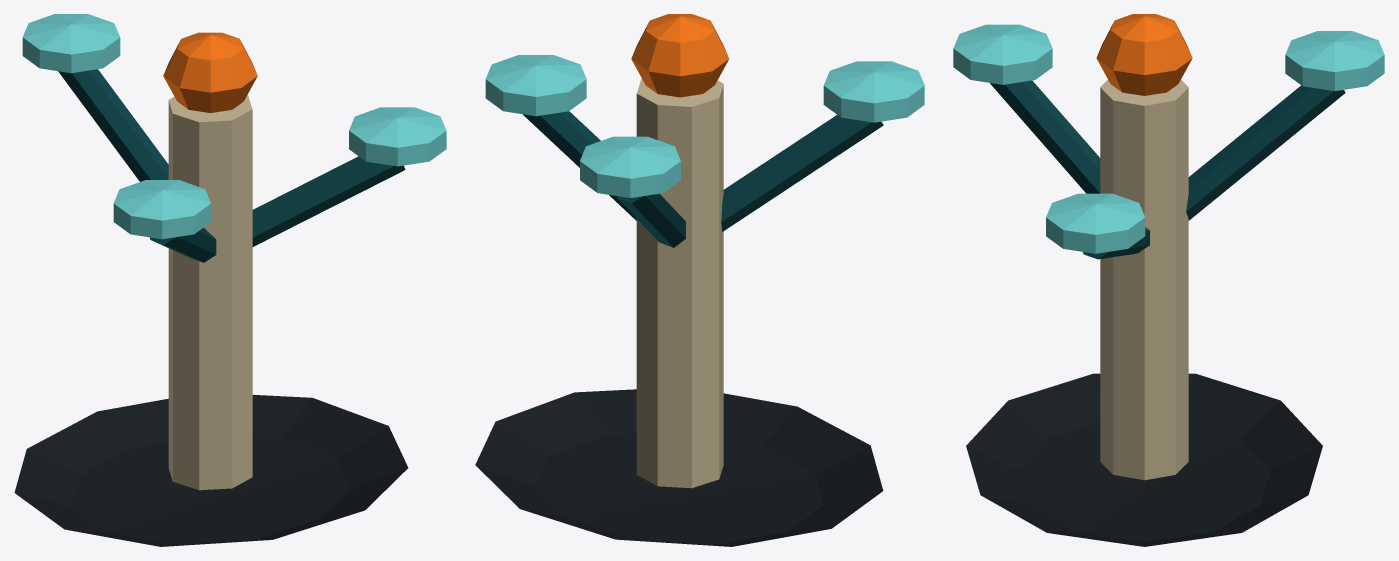
Rendered from civic_survey_organ_a.obj.
The picture shows the model from 3 angles, left to right: view 1: azimuth 30°, elevation 25°; view 2: azimuth 150°, elevation 25°; view 3: azimuth 270°, elevation 25°; orthographic projection. The views are drawn at different scales.
Visible parts, largest first — view 1: foot, sensor_stem, survey_eye, sensor_branch_0, sensor_cup_2, sensor_cup_1, sensor_cup_0, sensor_branch_2, sensor_branch_1; view 2: foot, sensor_stem, survey_eye, sensor_branch_1, sensor_cup_1, sensor_cup_2, sensor_cup_0, sensor_branch_2, sensor_branch_0; view 3: foot, sensor_stem, sensor_branch_2, survey_eye, sensor_cup_1, sensor_cup_0, sensor_cup_2, sensor_branch_1, sensor_branch_0.
Boxes of the visible parts, left/top/right/bottom form: foot: left=14, top=395, right=408, bottom=546; sensor_stem: left=168, top=95, right=252, bottom=490; survey_eye: left=163, top=32, right=257, bottom=112; sensor_branch_0: left=252, top=156, right=405, bottom=246; sensor_cup_2: left=22, top=14, right=120, bottom=73; sensor_cup_1: left=113, top=180, right=211, bottom=239; sensor_cup_0: left=349, top=107, right=446, bottom=166; sensor_branch_2: left=58, top=69, right=168, bottom=181; sensor_branch_1: left=149, top=228, right=216, bottom=262; foot: left=475, top=389, right=883, bottom=546; sensor_stem: left=636, top=79, right=723, bottom=488; survey_eye: left=631, top=14, right=728, bottom=97; sensor_branch_1: left=721, top=115, right=883, bottom=231; sensor_cup_1: left=823, top=61, right=924, bottom=122; sensor_cup_2: left=580, top=136, right=680, bottom=197; sensor_cup_0: left=485, top=55, right=586, bottom=116; sensor_branch_2: left=617, top=193, right=685, bottom=247; sensor_branch_0: left=523, top=111, right=636, bottom=220; foot: left=966, top=373, right=1322, bottom=546; sensor_stem: left=1100, top=80, right=1188, bottom=480; sensor_branch_2: left=1186, top=85, right=1345, bottom=220; survey_eye: left=1096, top=14, right=1192, bottom=95; sensor_cup_1: left=953, top=24, right=1052, bottom=84; sensor_cup_0: left=1046, top=193, right=1145, bottom=253; sensor_cup_2: left=1285, top=31, right=1384, bottom=90; sensor_branch_1: left=990, top=80, right=1100, bottom=193; sensor_branch_0: left=1083, top=227, right=1149, bottom=259.
Size of the model in its own units: 3.81 by 4.47 by 3.71.
